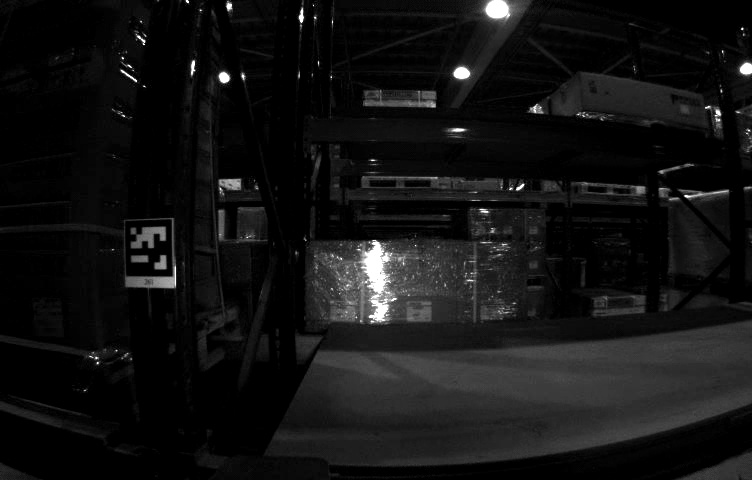True Barcode: (33, 301, 63, 339)
